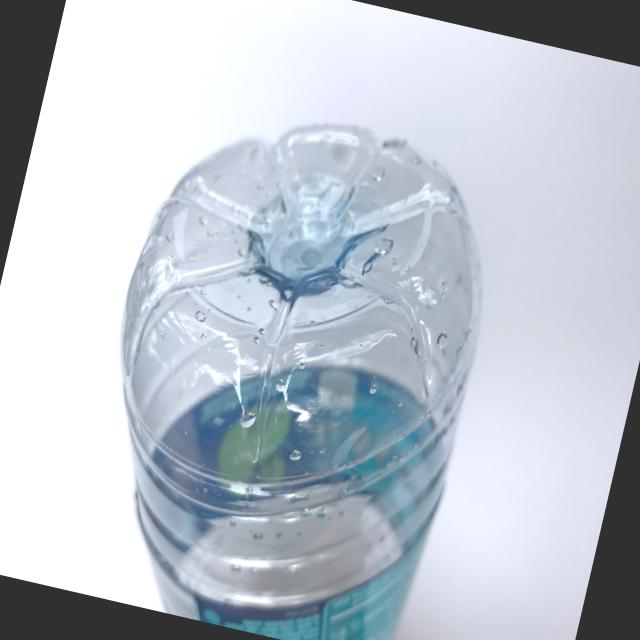Plastic: (51, 68, 537, 640)
